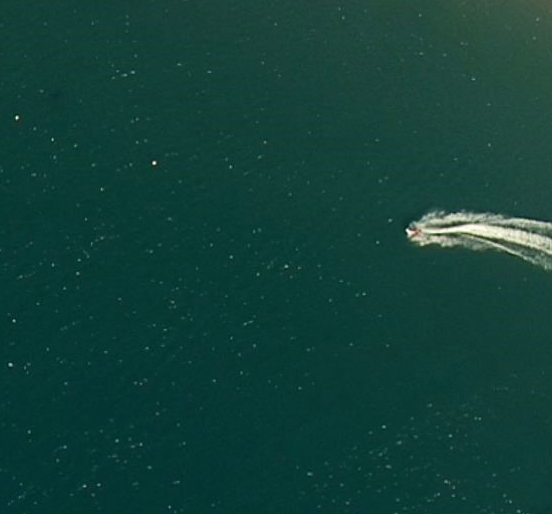ship: (406, 222, 422, 245)
